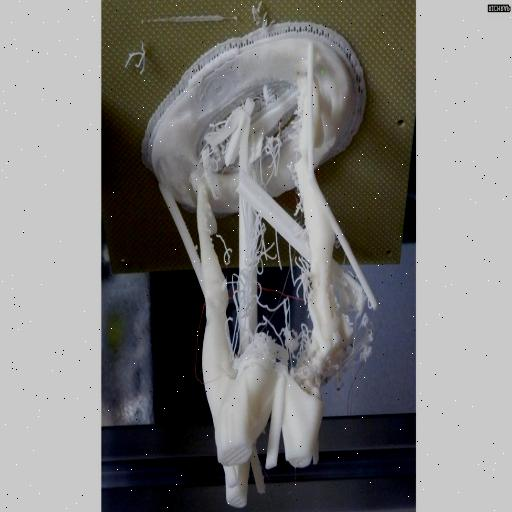spaghetti: (322, 290, 384, 400), (256, 232, 302, 350), (260, 110, 294, 190), (197, 114, 242, 174), (222, 200, 232, 270)
